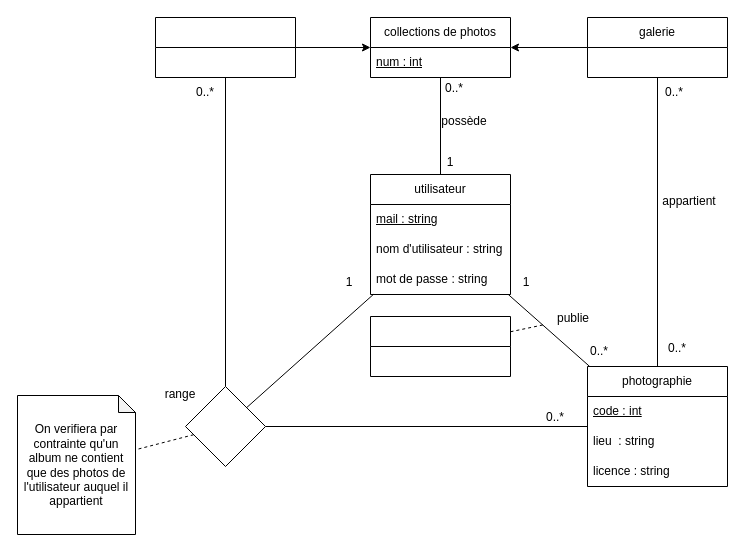
The diagram is 745 pixels wide and 552 high, and some of its shapes have lost their labels. The shapes that lost their labels are listed below. From the top down, each one's centre as x and y in pixels, then its label:
(225,47): albums
(440,346): date publication : date
